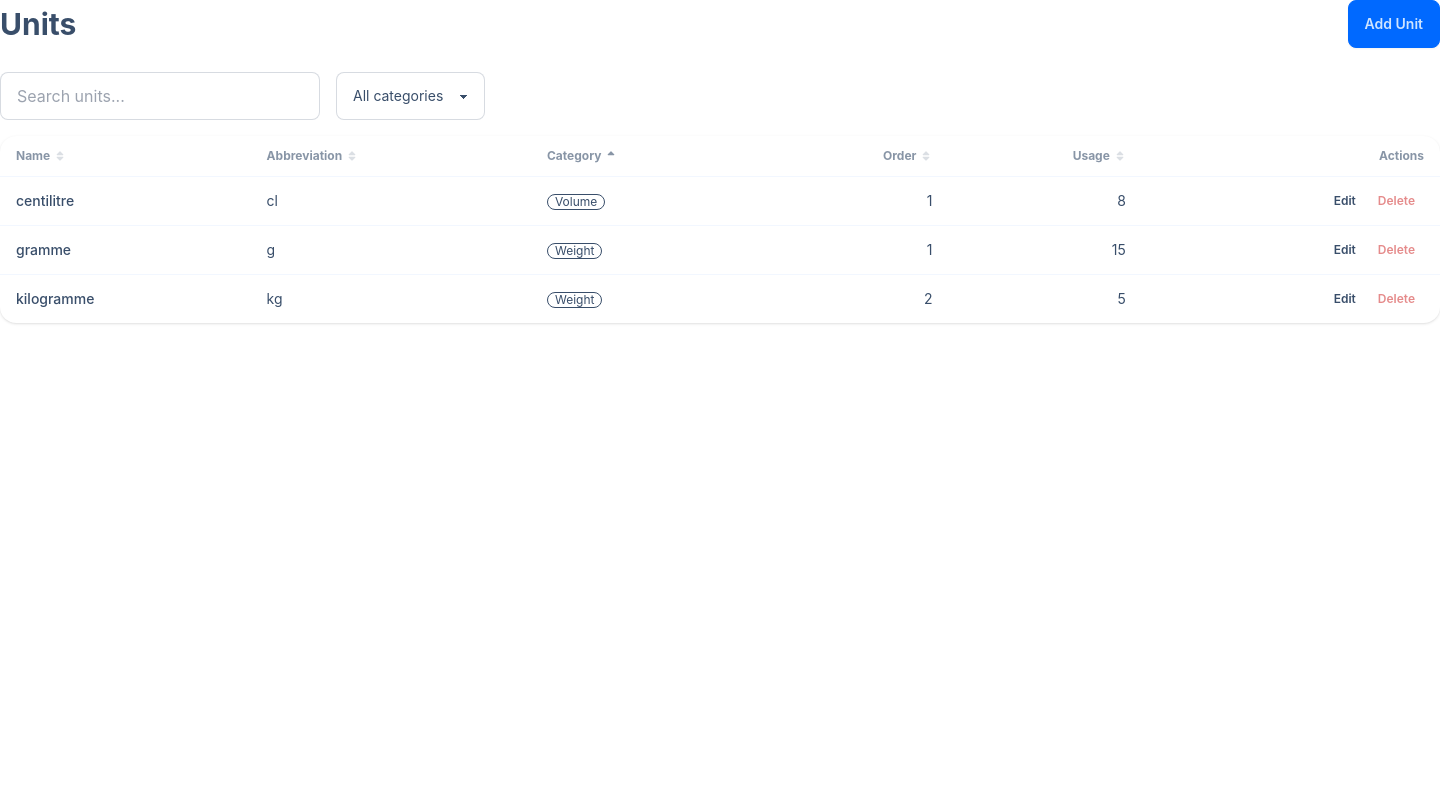
Scenario: AdminUnitsPage › should open create modal
Click the button "Add Unit": (1394, 24) [1348,0,1439,48]
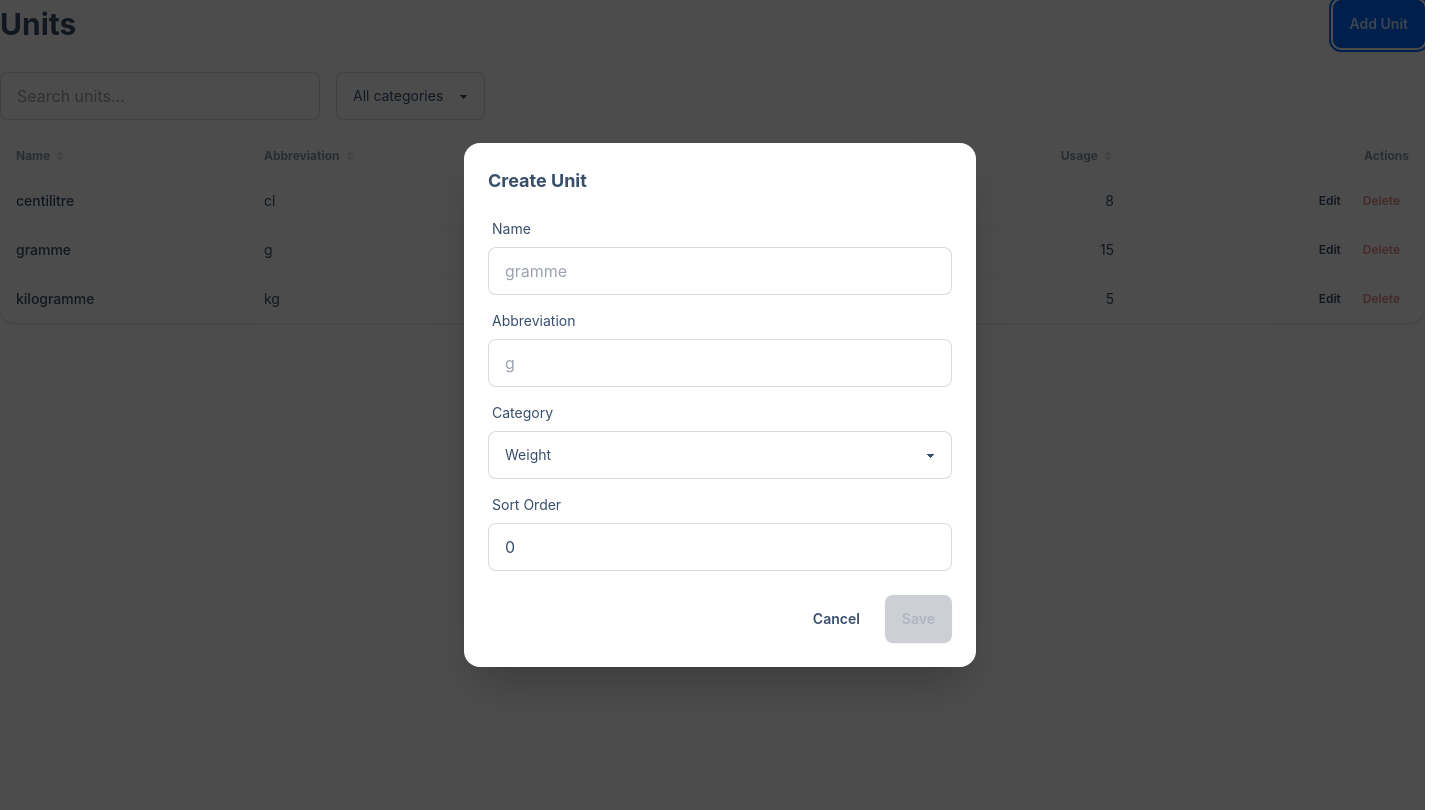
Check: the heading "Create Unit" is shown, box [488,170,587,191]
